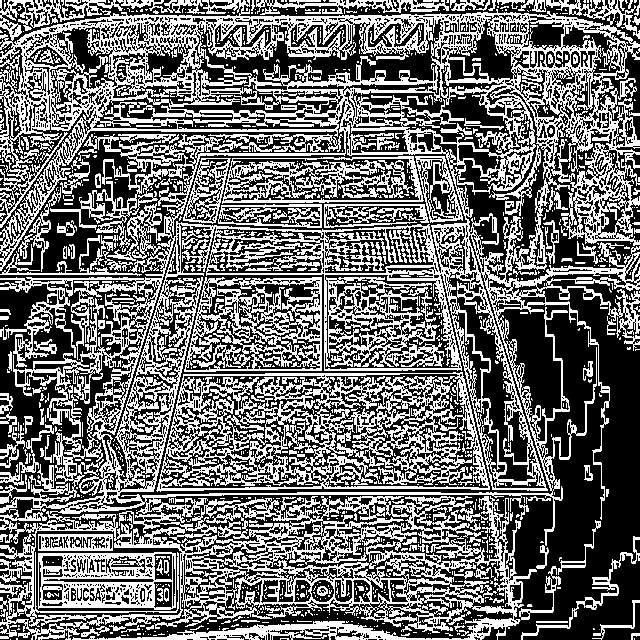left side: (413, 154, 549, 492), (96, 155, 231, 494)
player: (84, 419, 144, 507), (334, 89, 359, 158)
